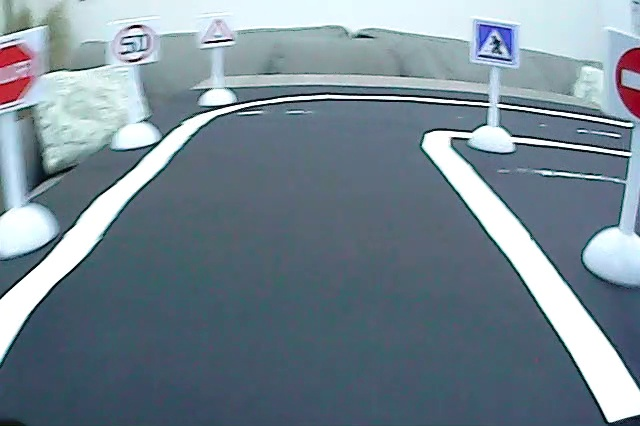pedestrian crossing: (472, 18, 518, 64)
speed limit 50: (111, 20, 159, 65)
